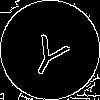Y: (25, 25, 75, 81)
